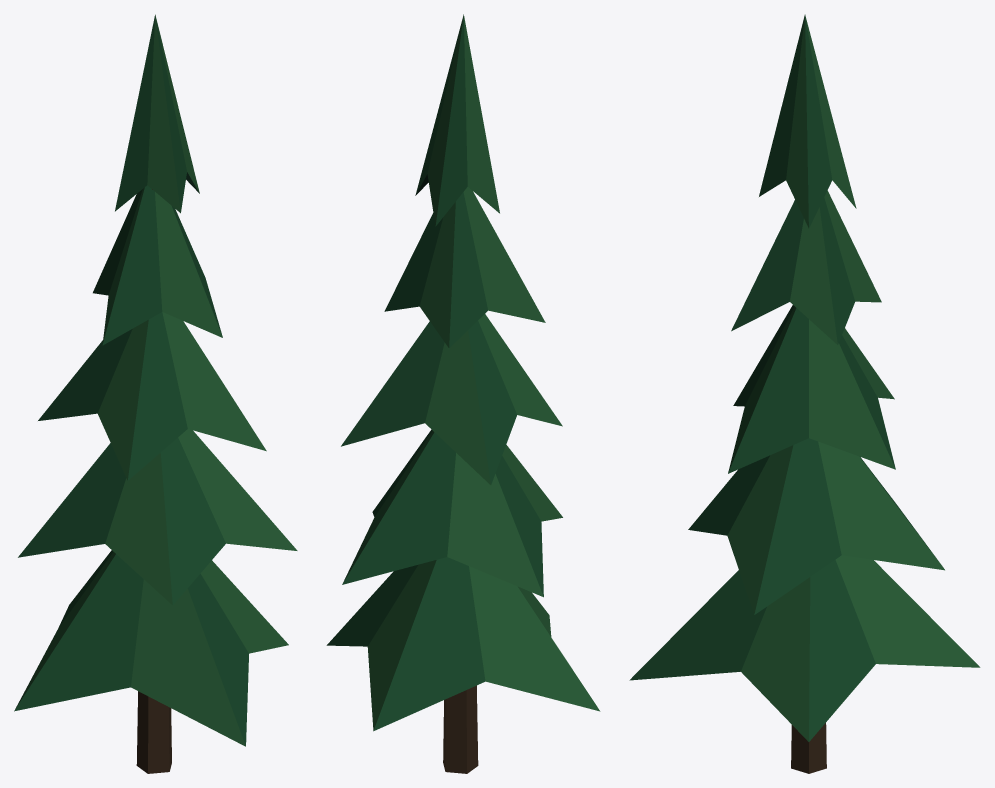
File: tree-fir.glb
3 views of the same model, side by side, from view 1: azimuth 30°, elevation 25°; view 2: azimuth 150°, elevation 25°; view 3: azimuth 270°, elevation 25° (orthographic).
Visible parts, largest first — view 1: tree-fir; view 2: tree-fir; view 3: tree-fir.
Boxes of the visible parts, box(x1,y1,x2,y2) form: tree-fir: box(14, 14, 297, 773); tree-fir: box(326, 14, 600, 773); tree-fir: box(629, 14, 980, 773).
Bounding box in the file's own units: 2.35 × 6.15 × 2.61.
